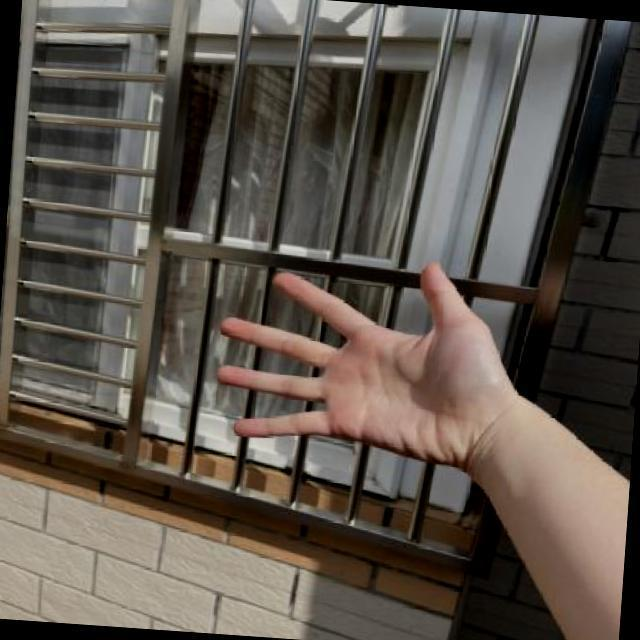hand: (192, 235, 538, 489)
